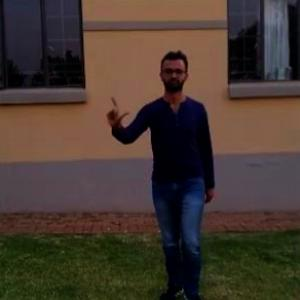land_hand: (100, 87, 133, 132)
